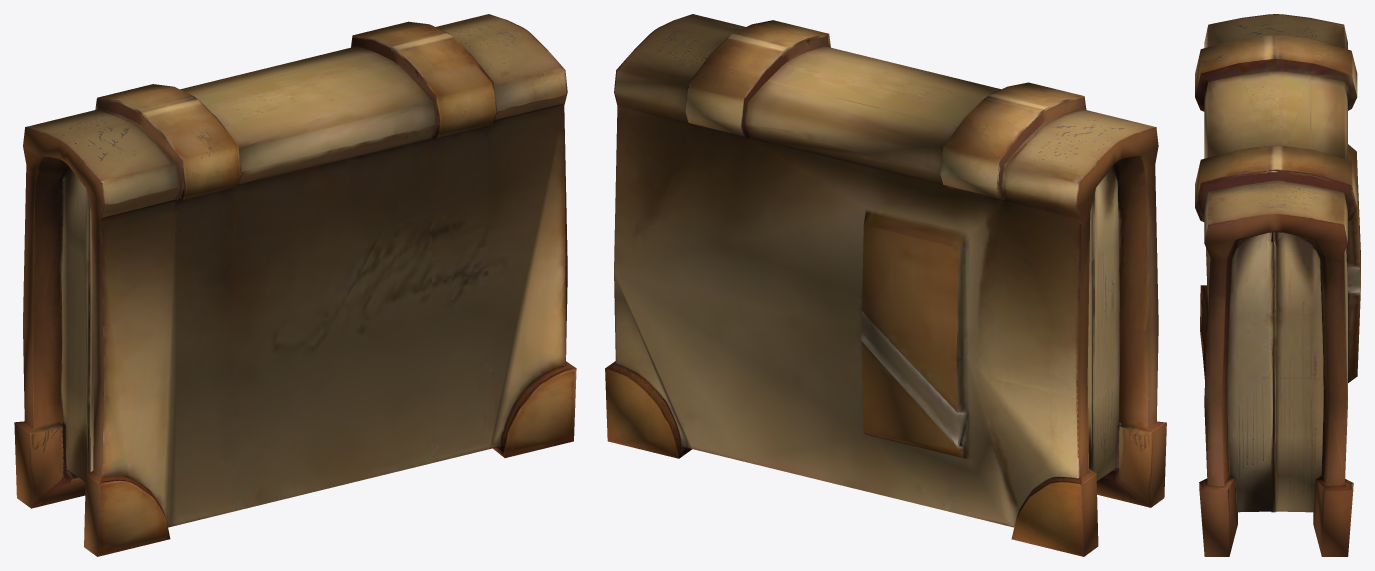
File: book-opening.glb
3 renders of one model, left to right at view 1: azimuth 30°, elevation 25°; view 2: azimuth 150°, elevation 25°; view 3: azimuth 270°, elevation 25°, orthographic. The views are drawn at different scales.
Bounding box in the file's own units: 2 × 1.59 × 0.68.
Materials: 1 (1 with a texture image).
